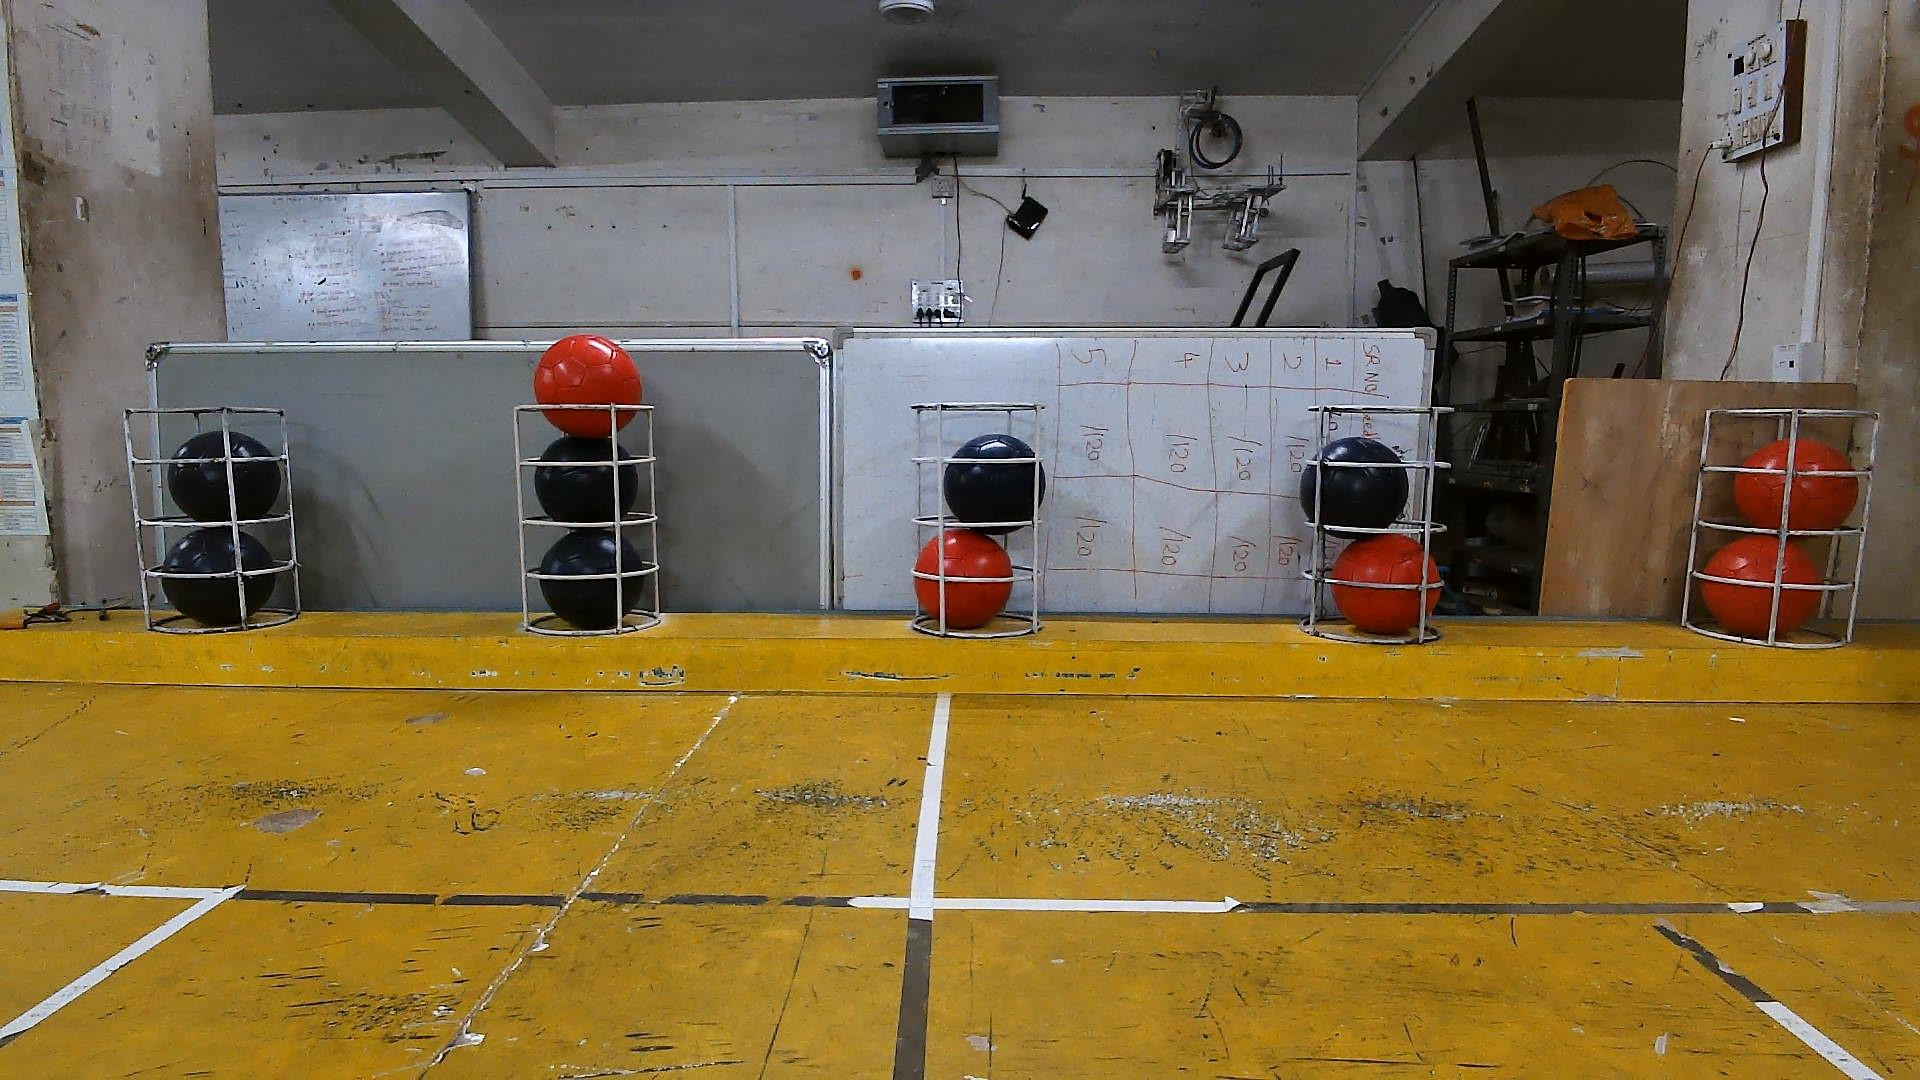dhoka: (161, 525, 277, 626), (1302, 435, 1410, 537), (541, 529, 645, 630), (169, 431, 281, 521), (945, 435, 1046, 533), (533, 435, 637, 524)
laale: (1702, 537, 1822, 637), (1733, 439, 1859, 533), (533, 334, 641, 439), (1332, 533, 1440, 637), (915, 529, 1013, 630)
